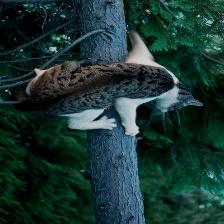kedo: (14, 30, 204, 135)
